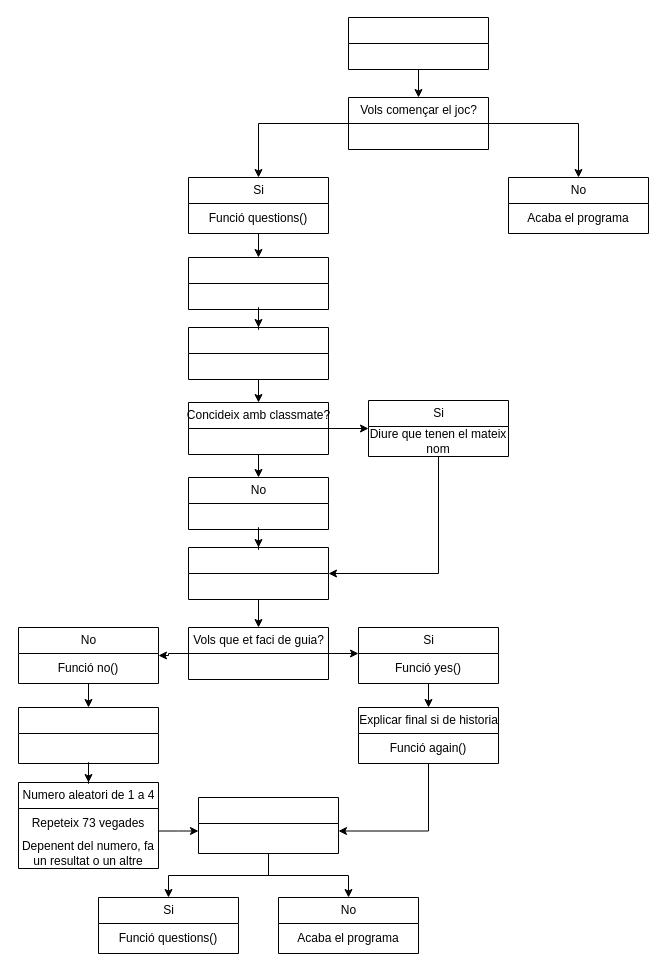
Image size: 666x971. Some labels were removed from this diagram. The shapes that lost their labels are listed below. From the top down, each one's centre as x and y in pixels, then its label:
At (x=418, y=43): "Inici".
At (x=258, y=283): "Explicar historia".
At (x=258, y=353): "Demanar name a jugador".
At (x=258, y=573): "Continuar historia".
At (x=88, y=735): "Explicar final no de historia".
At (x=268, y=825): "Vols tornar a jugar?".
